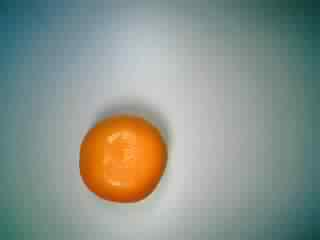orange: (73, 111, 172, 208)
